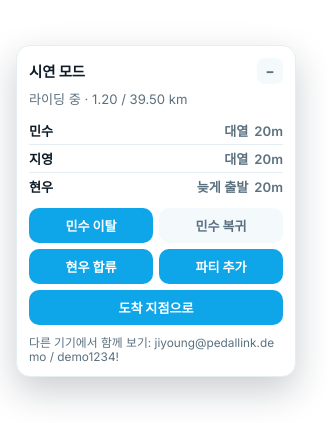
Test: 라이딩 중 [파티 추가] — 서연은 누르기 전엔 목록에 없고, 누르면 개인 라이딩 중으로 보인다
This screenshot has width=328, height=423.
Expected: the text "서연" is not shown
Click the button "파티 추가".
click(221, 266)  # box [159,249,283,284]
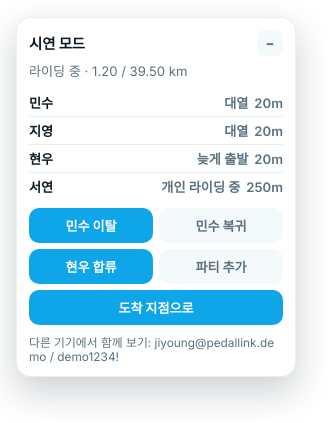
Now the text "서연" is shown, box [29,177,53,196]
Now the text "개인 라이딩 중" is shown, box [161,179,240,195]
Now the text "250m" is shown, box [246,179,283,195]
